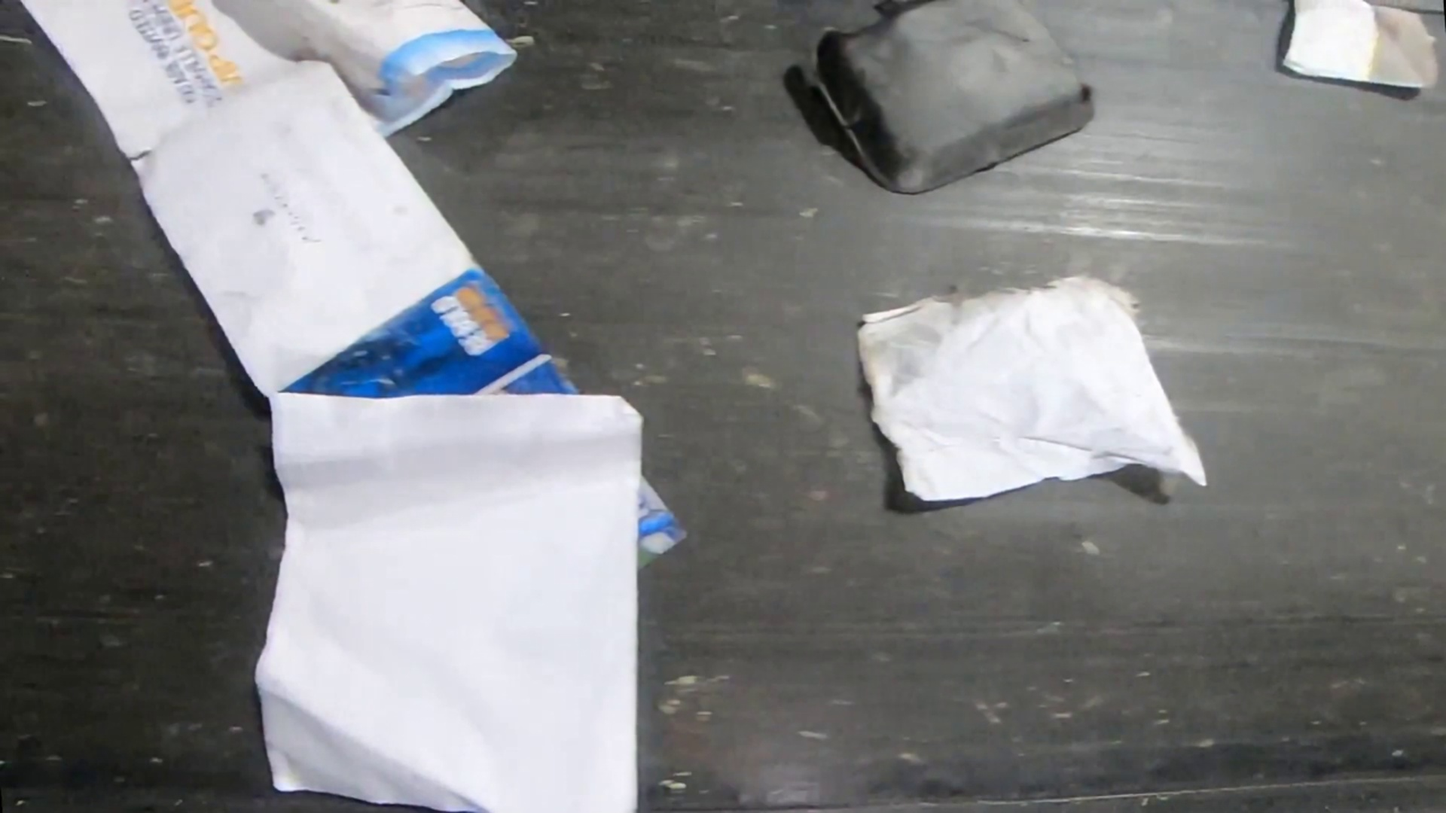plastic: (807, 0, 1098, 196)
